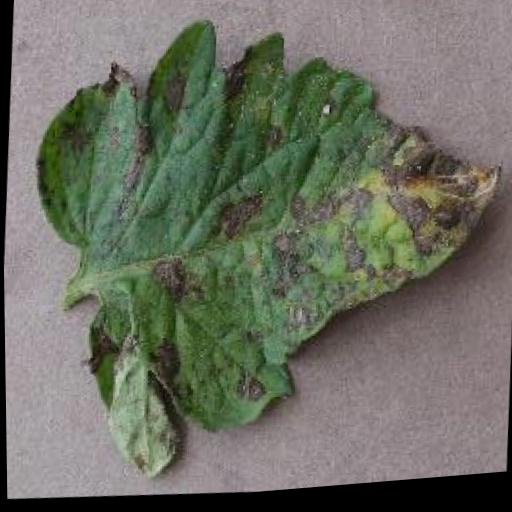Early Blight: (17, 0, 512, 504)
